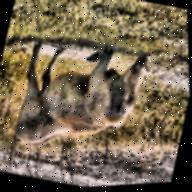boar: (10, 18, 166, 179)
